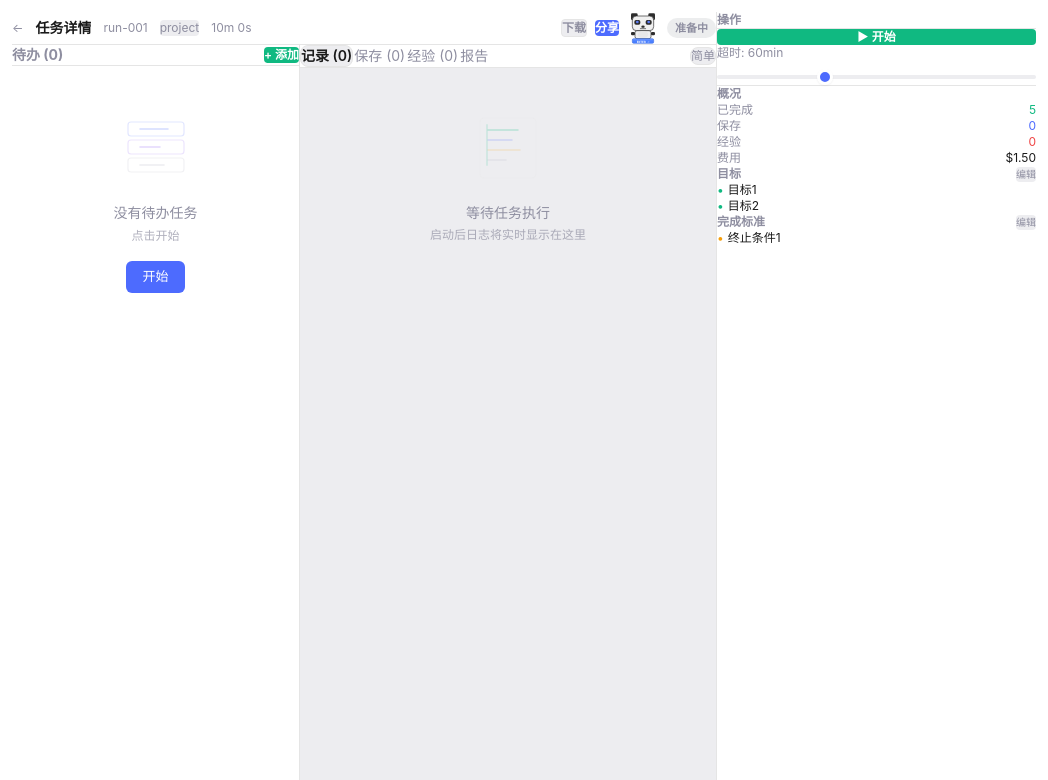
EvolutionDashboard › 显示最终报告
Note: Click the report tab to show the report content
Click the tab "报告" at coordinates (474, 56), box [459,45,489,67]
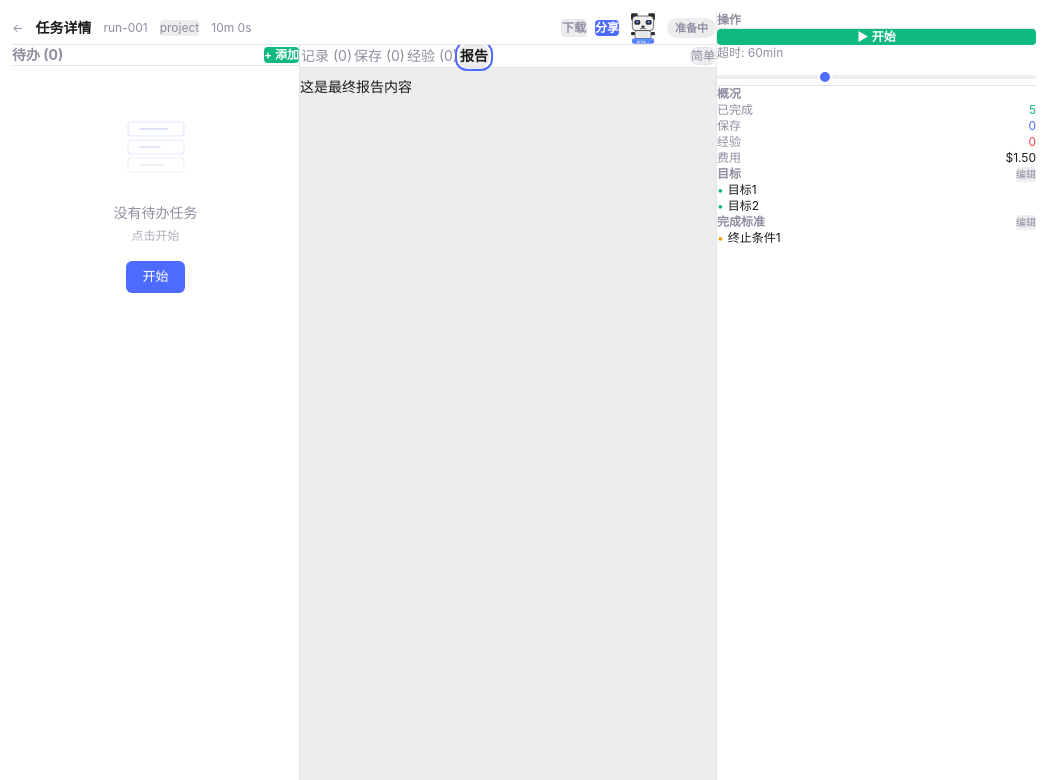
Expected: the text "这是最终报告内容" is shown, [300,79,412,95]
